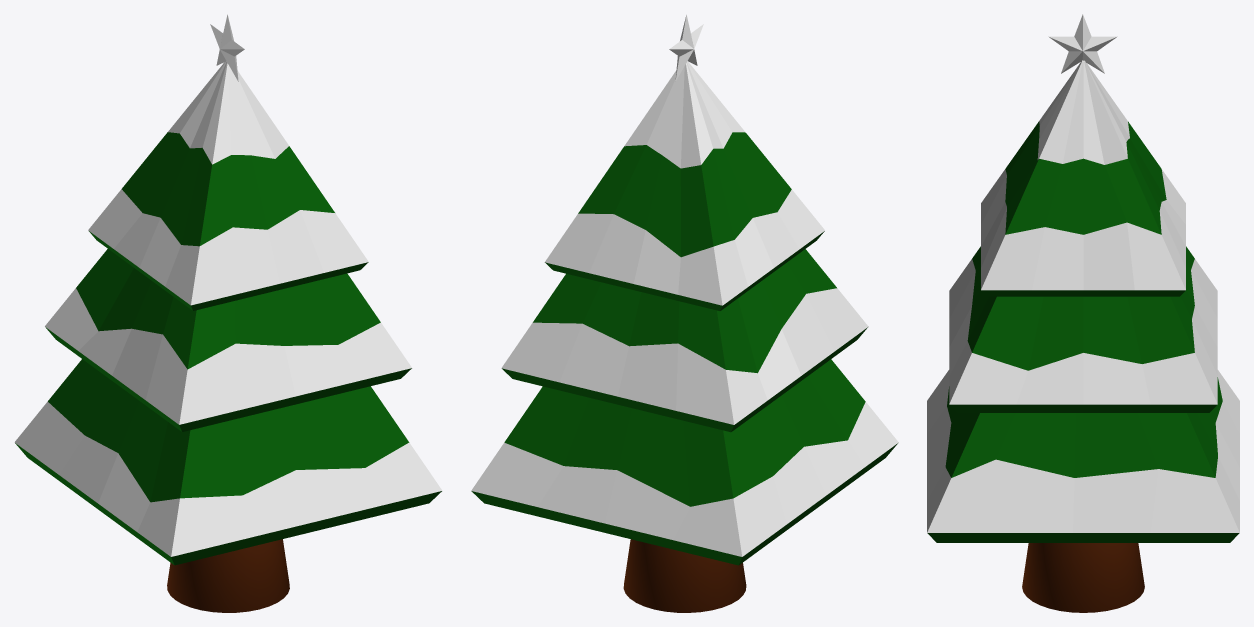
File: chrismasTree.fbx
3 views of the same model, side by side, from view 1: azimuth 30°, elevation 25°; view 2: azimuth 150°, elevation 25°; view 3: azimuth 270°, elevation 25° (orthographic).
Parts seen in each view (by area): view 1: Cube, Cube.003, Cylinder, Star.001_4; view 2: Cube, Cube.003, Cylinder, Star.001_4; view 3: Cube.003, Cube, Cylinder, Star.001_4.
Boxes of the visible parts, bbox=[...] form: Cube: bbox=[15, 132, 441, 565]; Cube.003: bbox=[14, 61, 442, 556]; Cylinder: bbox=[167, 539, 289, 612]; Star.001_4: bbox=[210, 14, 244, 81]; Cube: bbox=[471, 132, 897, 565]; Cube.003: bbox=[471, 61, 898, 556]; Cylinder: bbox=[623, 539, 746, 612]; Star.001_4: bbox=[669, 14, 703, 81]; Cube.003: bbox=[927, 60, 1239, 532]; Cube: bbox=[927, 121, 1239, 542]; Cylinder: bbox=[1022, 543, 1144, 612]; Star.001_4: bbox=[1048, 14, 1117, 73].
Bounding box in the file's own units: 187 × 378 × 187.
